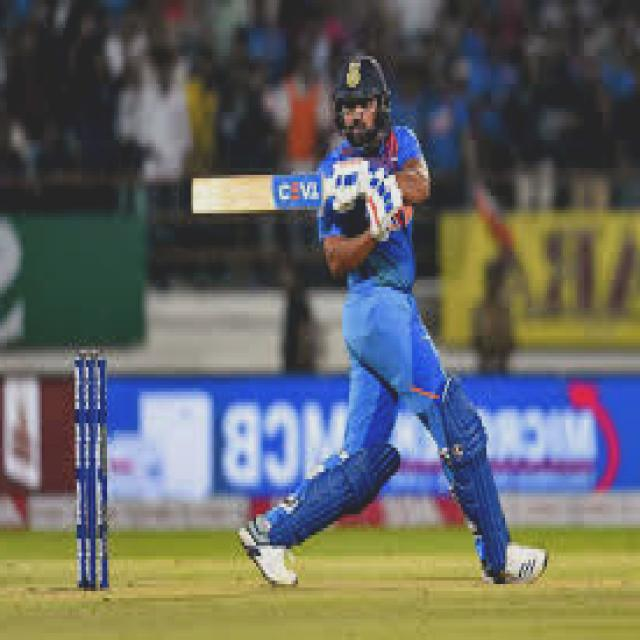toe: (186, 178, 211, 220)
